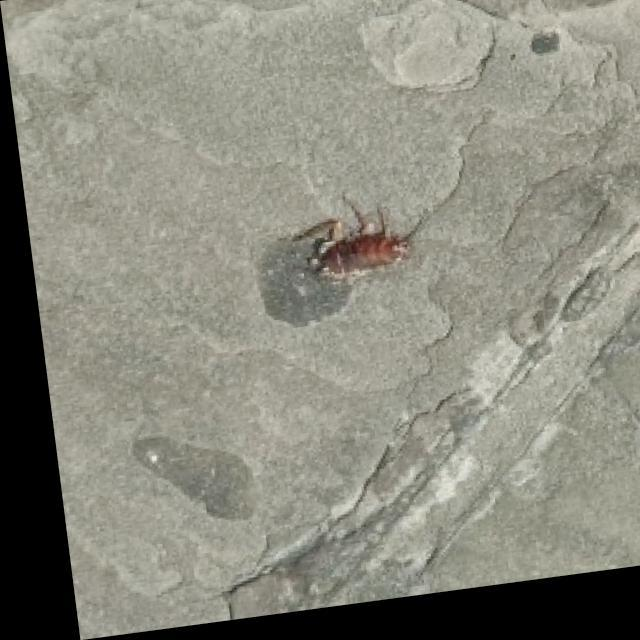cockroach: (285, 190, 417, 285)
